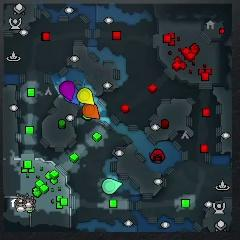p1: (65, 87, 80, 105)
p2: (103, 178, 123, 194)
p3: (60, 81, 75, 100)
p4: (76, 88, 94, 105)
p5: (83, 103, 100, 119)
